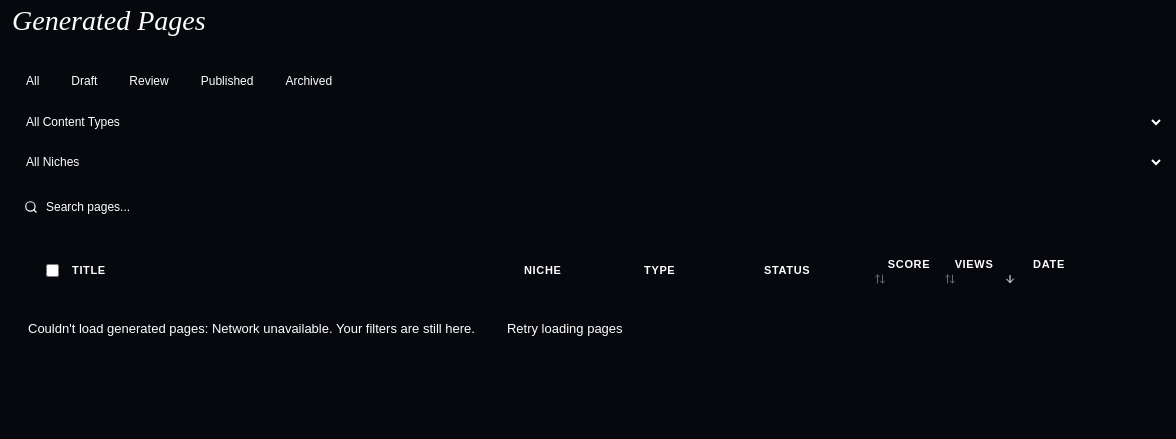
Test: GeneratedPagesManager › shows a failed load honestly and retries without losing the filters
Expected: the message shows "Couldn't load generated pages", 28,320 -> 212,336
Click the button "Retry loading pages" at (565,328), box 487,308 -> 643,348
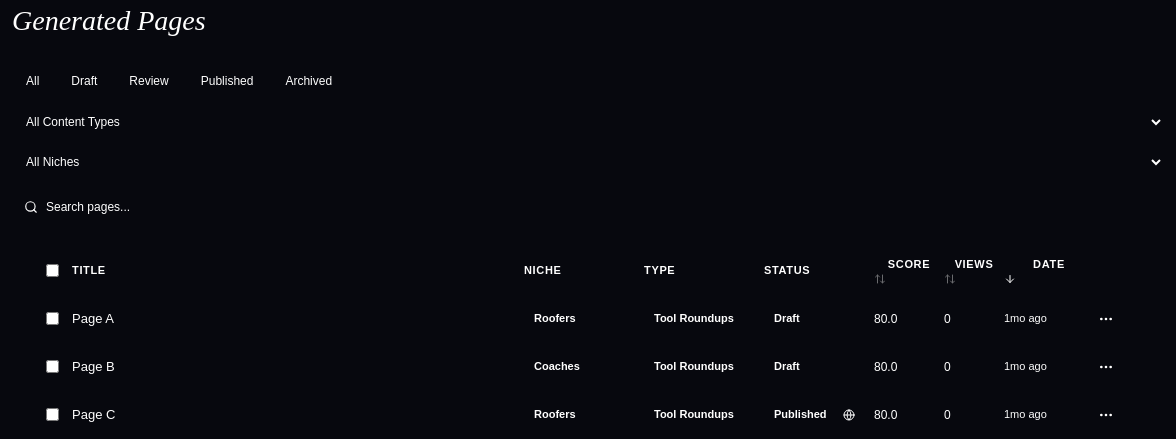
Expected: the text titled "Page A" is shown, 72,309 -> 114,328
